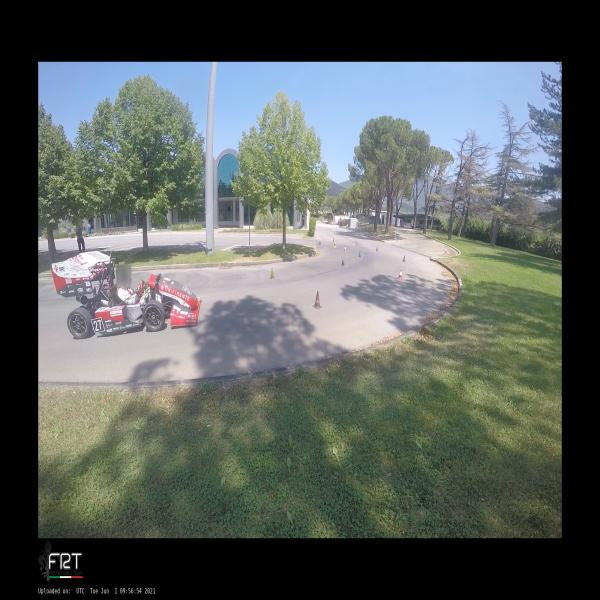orange_cone: (397, 268, 403, 278)
unknown_cone: (312, 291, 322, 309), (269, 268, 275, 280), (357, 250, 362, 258), (341, 258, 345, 266), (402, 255, 406, 262), (375, 246, 379, 252), (344, 245, 347, 251), (355, 242, 358, 246), (319, 241, 321, 246), (332, 238, 334, 242)
yellow_cone: (334, 243, 336, 249)
